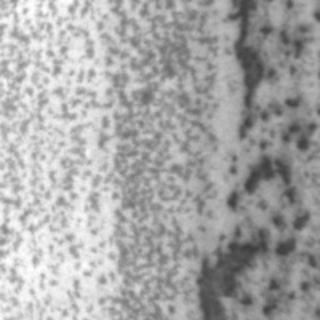patches: (194, 242, 258, 318)
pitted_surface: (0, 1, 198, 316), (210, 0, 318, 310)
